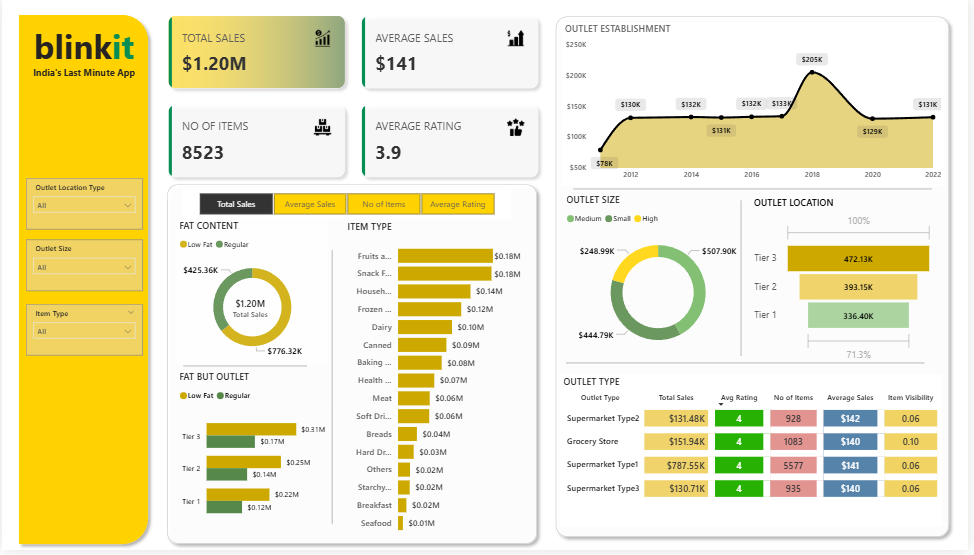

The page's visual inventory and layout, read from the dashboard file:
{"tool":"powerbi","page":{"name":"Page 1","canvas":[1400,800],"ordinal":0},"visuals":[{"type":"shape","box":[15.4,14.3,205.7,785.4],"z":0},{"type":"textbox","box":[34.2,30.4,168.6,83.6],"z":1000},{"type":"textbox","box":[35.5,93.8,168.6,39.3],"z":2000},{"type":"cardVisual","fields":{"Data":["BlinkIT Grocery Data.Total Sales","BlinkIT Grocery Data.Average Sales","BlinkIT Grocery Data.No of Items","BlinkIT Grocery Data.Average Rating"]},"box":[224.7,8,570.3,269.9],"z":3000},{"type":"shape","box":[230.7,260.7,553.8,539.1],"z":4000},{"type":"donutChart","title":"FAT CONTENT","fields":{"Y":["BlinkIT Grocery Data.Total Sales"],"Category":["BlinkIT Grocery Data.Item Fat Content"]},"box":[251.8,320.2,220.5,211.6],"z":5000},{"type":"slicer","fields":{"Values":["Metrics.Metrics"]},"box":[261.1,275,476.5,44.4],"z":6000},{"type":"clusteredBarChart","title":"FAT BUT OUTLET","fields":{"Y":["BlinkIT Grocery Data.Total Sales"],"Category":["BlinkIT Grocery Data.Outlet Location Type"],"Series":["BlinkIT Grocery Data.Item Fat Content"]},"box":[251.9,539,221.1,233.2],"z":7000},{"type":"cardVisual","fields":{"Data":["BlinkIT Grocery Data.Total Sales"]},"box":[304.2,414.9,111.5,59.6],"z":8000},{"type":"shape","box":[263.2,502.7,178.7,62.1],"z":9000},{"type":"shape","box":[460.1,365,35.5,397.5],"z":10000},{"type":"barChart","title":"ITEM TYPE","fields":{"Y":["BlinkIT Grocery Data.Total Sales"],"Category":["BlinkIT Grocery Data.Item Type"]},"box":[495.5,321.1,261.1,464.7],"z":11000},{"type":"shape","box":[793.4,16.9,588.1,772.7],"z":11001},{"type":"lineChart","title":"OUTLET ESTABLISHMENT","fields":{"Category":["BlinkIT Grocery Data.Outlet Establishment Year"],"Y":["BlinkIT Grocery Data.Total Sales"]},"box":[811.1,35.5,555.1,238.3],"z":11002},{"type":"shape","box":[829.3,246.7,519.6,62.1],"z":11003},{"type":"donutChart","title":"OUTLET SIZE ","fields":{"Y":["BlinkIT Grocery Data.Total Sales"],"Category":["BlinkIT Grocery Data.Outlet Size"]},"box":[812.4,282.6,275,243.3],"z":11004},{"type":"shape","box":[1057,292.8,29.1,225.6],"z":11005},{"type":"funnel","title":"OUTLET LOCATION","fields":{"Category":["BlinkIT Grocery Data.Outlet Location Type"],"Y":["Sum(BlinkIT Grocery Data.Sales)"]},"box":[1085.7,286.8,268.7,244.6],"z":11006},{"type":"shape","box":[817,498.1,519.6,62.1],"z":11007},{"type":"pivotTable","title":"OUTLET TYPE","fields":{"Rows":["BlinkIT Grocery Data.Outlet Type"],"Values":["BlinkIT Grocery Data.Total Sales","BlinkIT Grocery Data.Avg Rating","BlinkIT Grocery Data.No of Items","BlinkIT Grocery Data.Average Sales","Avg(BlinkIT Grocery Data.Item Visibility)"]},"box":[808.6,545,553.8,220.5],"z":11008},{"type":"slicer","fields":{"Values":["BlinkIT Grocery Data.Outlet Location Type"]},"box":[35.2,260.7,169.4,74.8],"z":11009},{"type":"slicer","fields":{"Values":["BlinkIT Grocery Data.Outlet Size"]},"box":[34.1,350.9,169.4,74.8],"z":11010},{"type":"slicer","fields":{"Values":["BlinkIT Grocery Data.Item Type"]},"box":[34.1,443.3,169.4,74.8],"z":11011}]}

Visuals, with their boxes in screenshot pixels (x1, y1, x2, y2), scaled from the page's 1400x800 canvas onto the 974x555 screenshot:
shape: region(11, 10, 154, 554)
textbox: region(24, 21, 141, 79)
textbox: region(25, 65, 142, 92)
cardVisual - BlinkIT Grocery Data.Total Sales x BlinkIT Grocery Data.Average Sales: region(156, 6, 553, 193)
shape: region(161, 181, 546, 554)
"FAT CONTENT" donutChart: region(175, 222, 329, 369)
slicer - Metrics.Metrics: region(182, 191, 513, 222)
"FAT BUT OUTLET" clusteredBarChart: region(175, 374, 329, 536)
cardVisual - BlinkIT Grocery Data.Total Sales: region(212, 288, 289, 329)
shape: region(183, 349, 307, 392)
shape: region(320, 253, 345, 529)
"ITEM TYPE" barChart: region(345, 223, 526, 545)
shape: region(552, 12, 961, 548)
"OUTLET ESTABLISHMENT" lineChart: region(564, 25, 950, 190)
shape: region(577, 171, 938, 214)
"OUTLET SIZE " donutChart: region(565, 196, 757, 365)
shape: region(735, 203, 756, 360)
"OUTLET LOCATION" funnel: region(755, 199, 942, 369)
shape: region(568, 346, 930, 389)
"OUTLET TYPE" pivotTable: region(563, 378, 948, 531)
slicer - BlinkIT Grocery Data.Outlet Location Type: region(24, 181, 142, 233)
slicer - BlinkIT Grocery Data.Outlet Size: region(24, 243, 142, 295)
slicer - BlinkIT Grocery Data.Item Type: region(24, 308, 142, 359)
